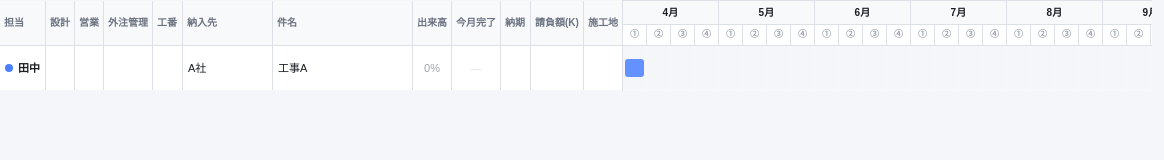
Scenario: GanttChart › メモ編集: 保存 › Enterキーでメモを保存し supabase.update を呼ぶ
Hover over the 1st cell with class "gantt-cell" at (634, 68), box left=622, top=45, right=646, bottom=90
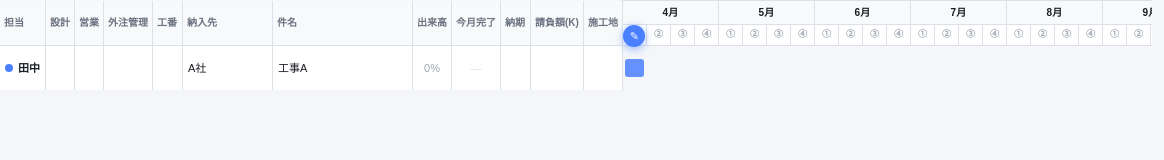
Click the text "✎" at (634, 36), box left=623, top=25, right=645, bottom=47
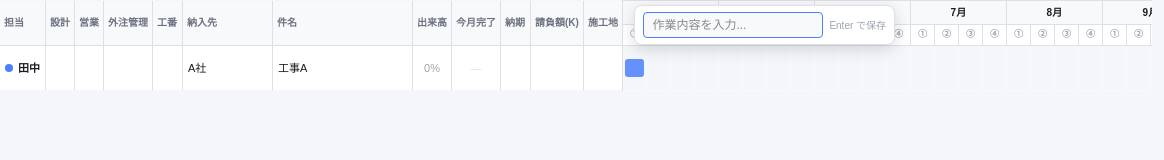
Type "配管工事" into the field with placeholder "作業内容を入力..." at (733, 25), box left=643, top=12, right=823, bottom=38
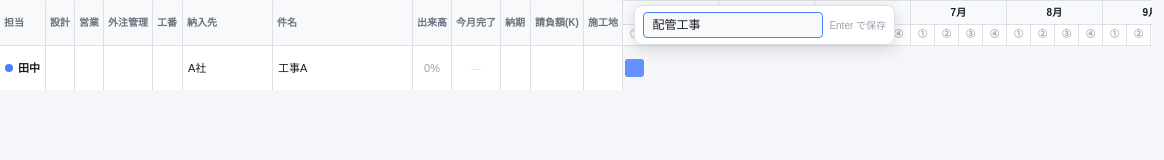
Press Enter
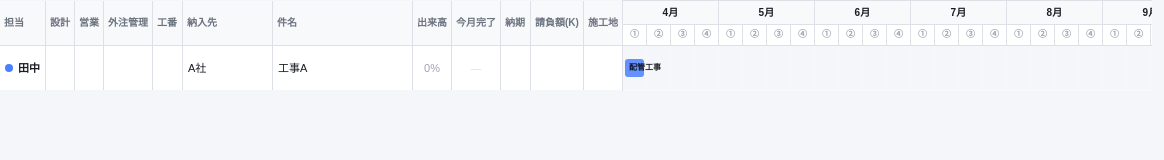
Expected: the field with placeholder "作業内容を入力..." is gone
